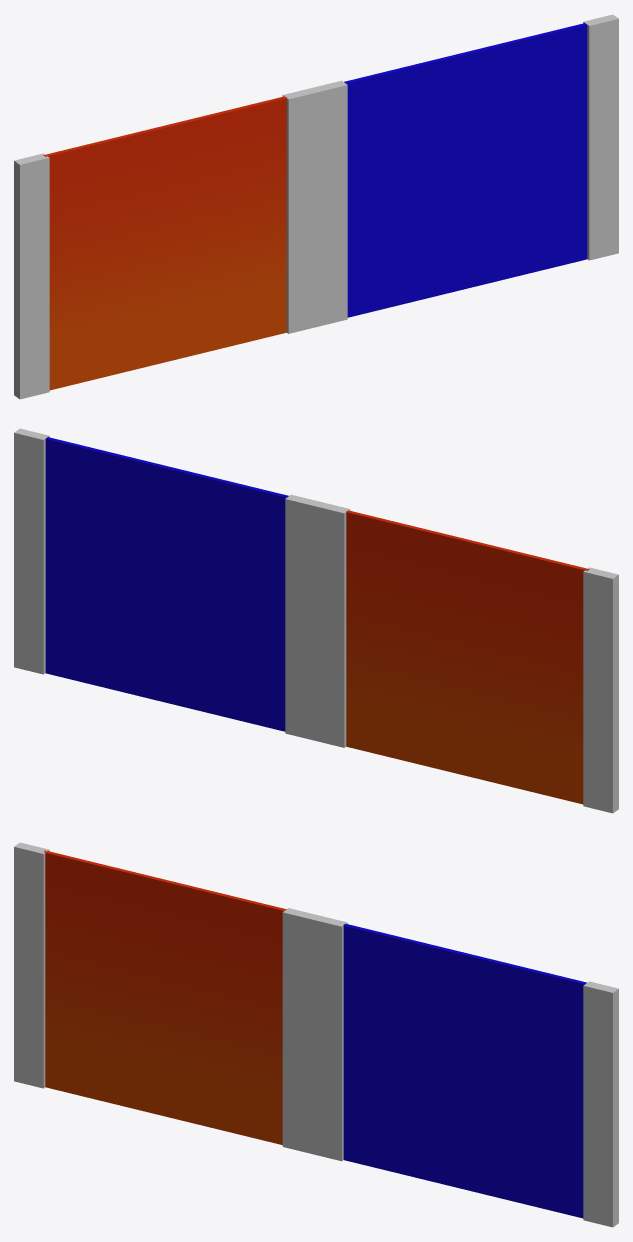
File: cong so luong.fbx
3 views of the same model, one above another, from view 1: azimuth 30°, elevation 25°; view 2: azimuth 150°, elevation 25°; view 3: azimuth 330°, elevation 25° (orthographic).
Parts seen in each view (by area): view 1: bl_gate, or_gate, or_gate1, or_gate2, bl_gate4, bl_gate3; view 2: bl_gate, or_gate, or_gate1, or_gate2, bl_gate4, bl_gate3; view 3: bl_gate, or_gate, bl_gate4, or_gate1, bl_gate3, or_gate2.
Part boxes in pixels (bbox=[...]): bl_gate: bbox=[344, 23, 587, 317]; or_gate: bbox=[43, 96, 286, 390]; or_gate1: bbox=[14, 153, 49, 399]; or_gate2: bbox=[282, 88, 318, 333]; bl_gate4: bbox=[583, 14, 618, 260]; bl_gate3: bbox=[312, 80, 347, 326]; bl_gate: bbox=[45, 437, 288, 731]; or_gate: bbox=[346, 510, 589, 804]; or_gate1: bbox=[583, 567, 618, 813]; or_gate2: bbox=[314, 502, 350, 747]; bl_gate4: bbox=[14, 428, 49, 674]; bl_gate3: bbox=[285, 494, 320, 740]; bl_gate: bbox=[343, 924, 586, 1218]; or_gate: bbox=[43, 850, 286, 1144]; bl_gate4: bbox=[583, 981, 618, 1227]; or_gate1: bbox=[14, 842, 49, 1088]; bl_gate3: bbox=[312, 915, 347, 1161]; or_gate2: bbox=[282, 908, 317, 1153].
Size of the model in its own units: 295 by 110 by 5.07.
